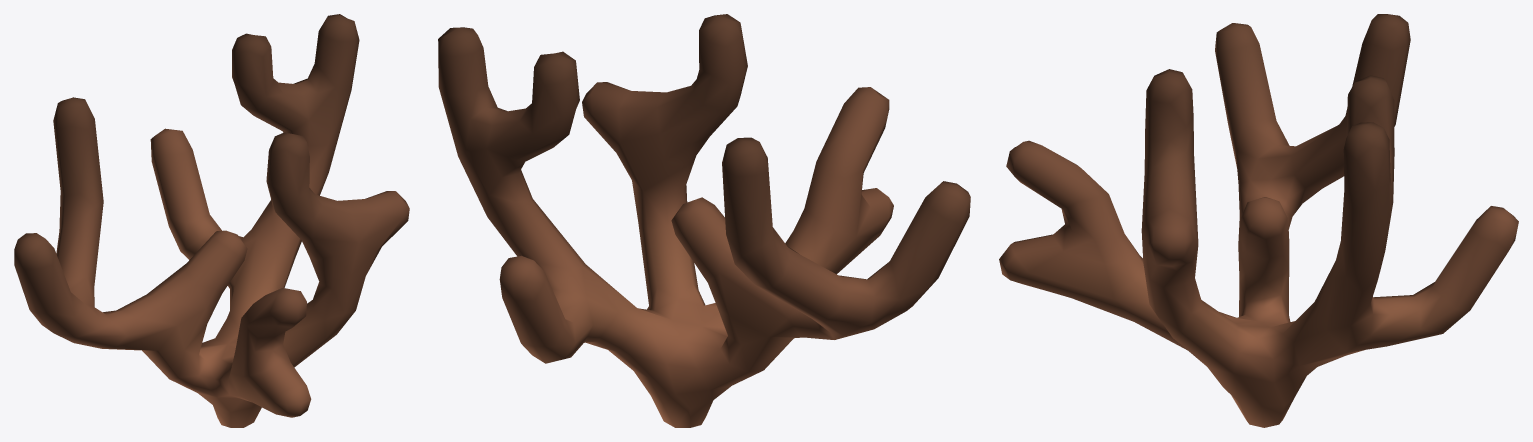
The model's file is Vera_3D-Model_DeadBush_A_UP.fbx.
3 views of the same model, side by side, from view 1: azimuth 30°, elevation 25°; view 2: azimuth 150°, elevation 25°; view 3: azimuth 270°, elevation 25° (orthographic). The views are drawn at different scales.
Visible parts, largest first — view 1: Cube; view 2: Cube; view 3: Cube.
Boxes of the visible parts, x1,y1,x2,y2 form: Cube: (14,14,409,427); Cube: (438,14,970,427); Cube: (999,14,1518,427).
Size of the model in its own units: 465 by 381 by 470.
1 material, 1 textured.
